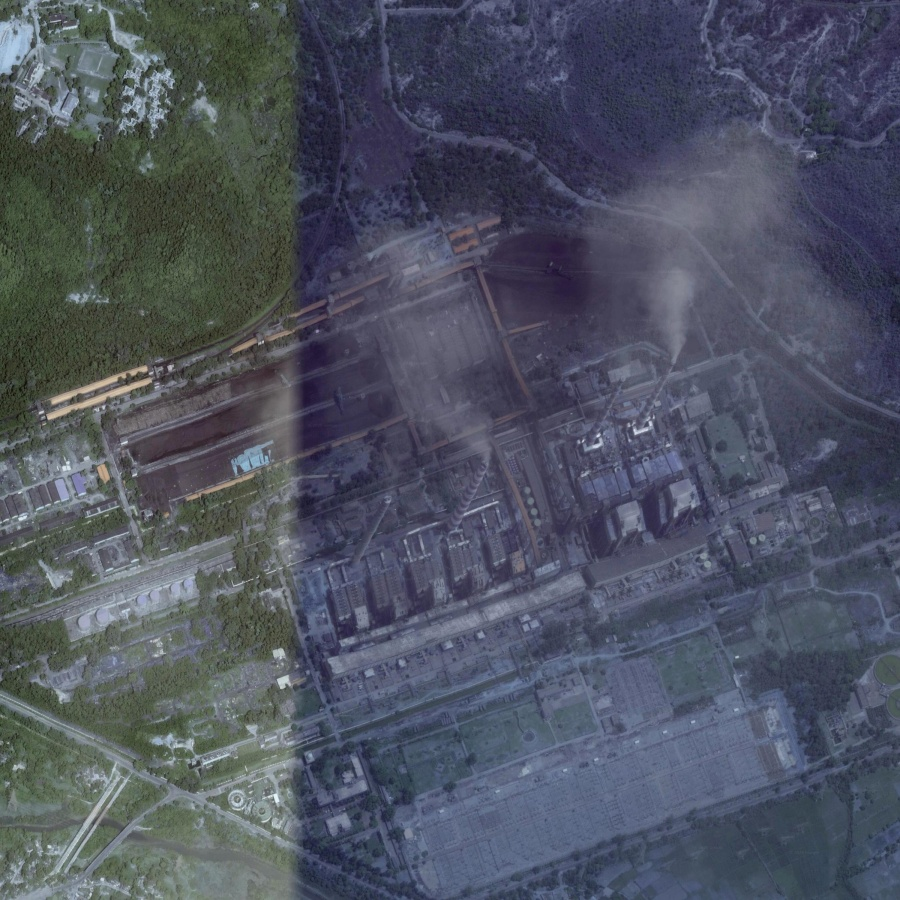PowerPlant: (324, 211, 779, 624)
